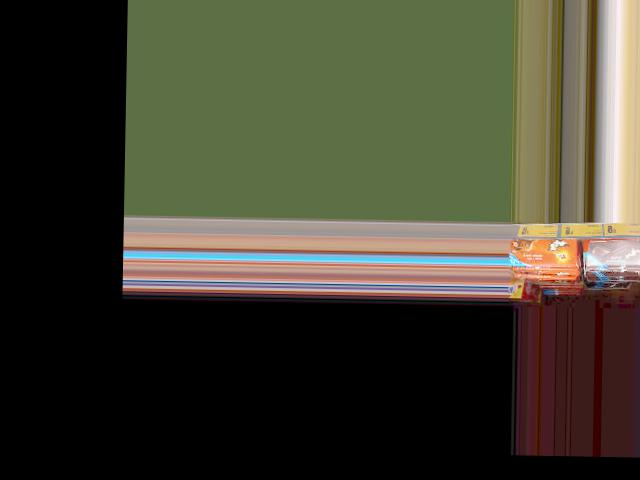chocolate: (589, 231, 640, 270)
